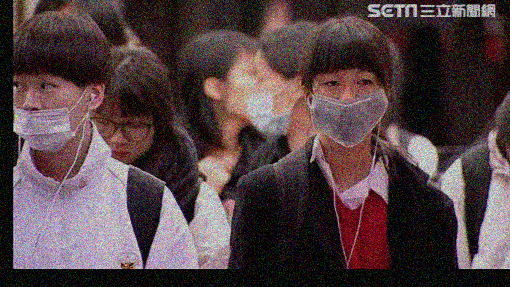mask_weared_incorrect: (14, 76, 89, 153)
with_mask: (310, 72, 389, 150), (244, 66, 291, 140)
without_mask: (89, 109, 155, 166)
